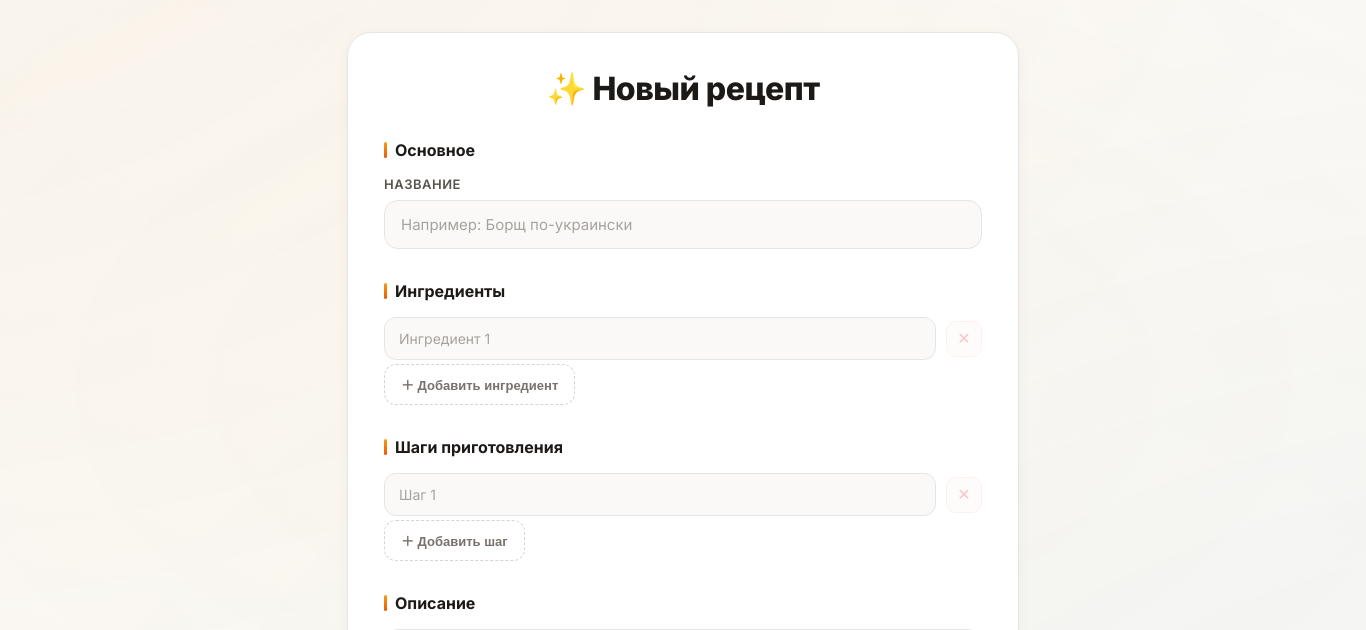
Test case: RecipeForm.vue › Ingredients management › should remove ingredient when clicking remove button
This screenshot has width=1366, height=630.
What coordinates should you click on to do the following:
click the button with class "form-list__add" showing "＋ Добавить ингредиент"
I would click on:
 (480, 384)
Its box is [384,364,575,405].
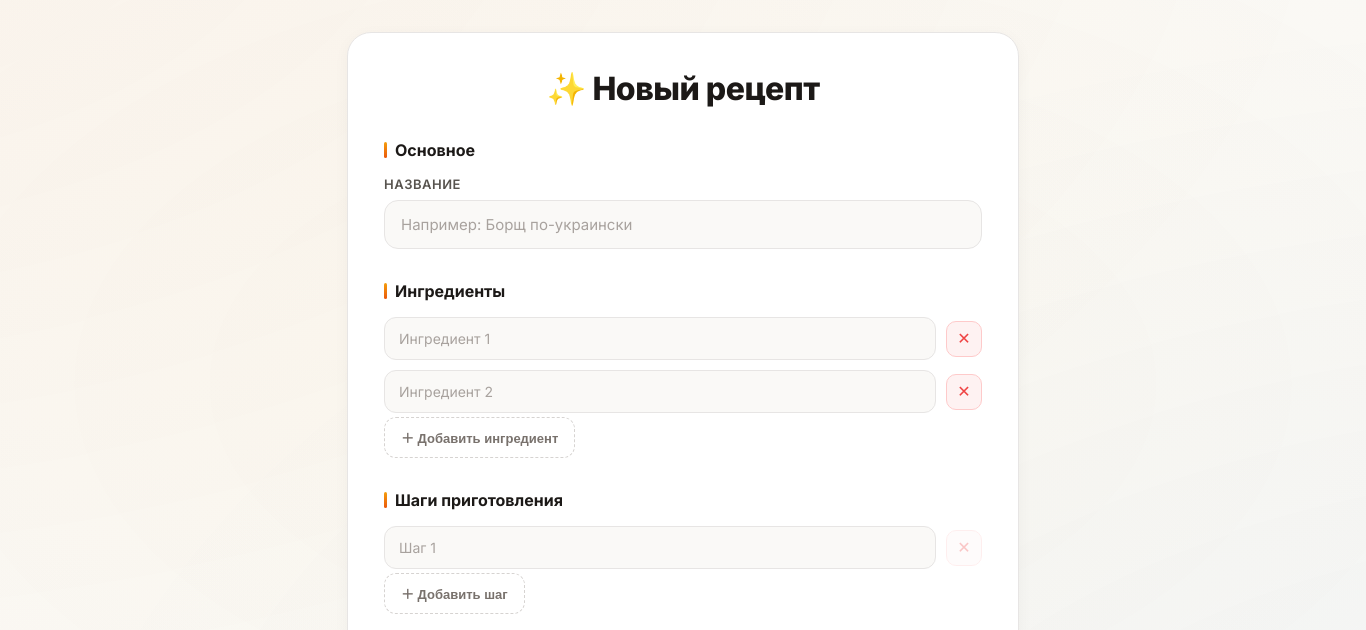
What coordinates should you click on to do the following:
click the 1st button with class "form-list__remove"
I would click on:
 (964, 338)
Its box is [946,320,982,356].
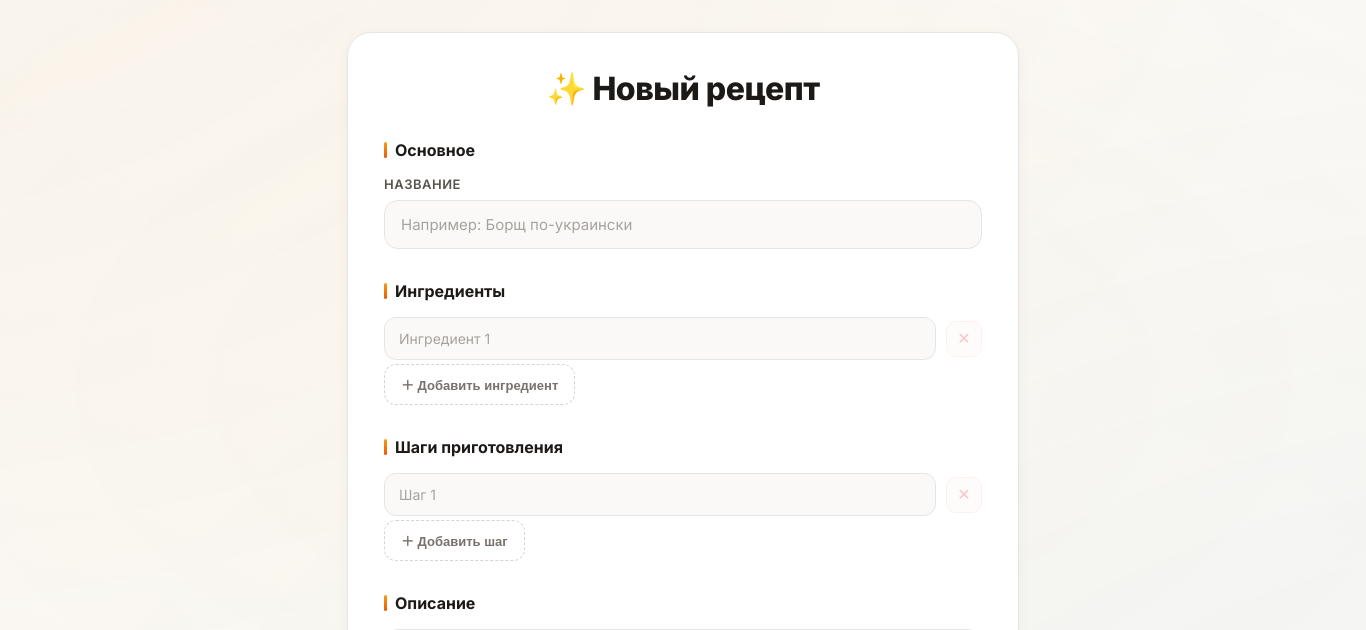
Expected: the number of elements with class "form-list__item" is 2, [384,317,982,360]; [384,473,982,516]
